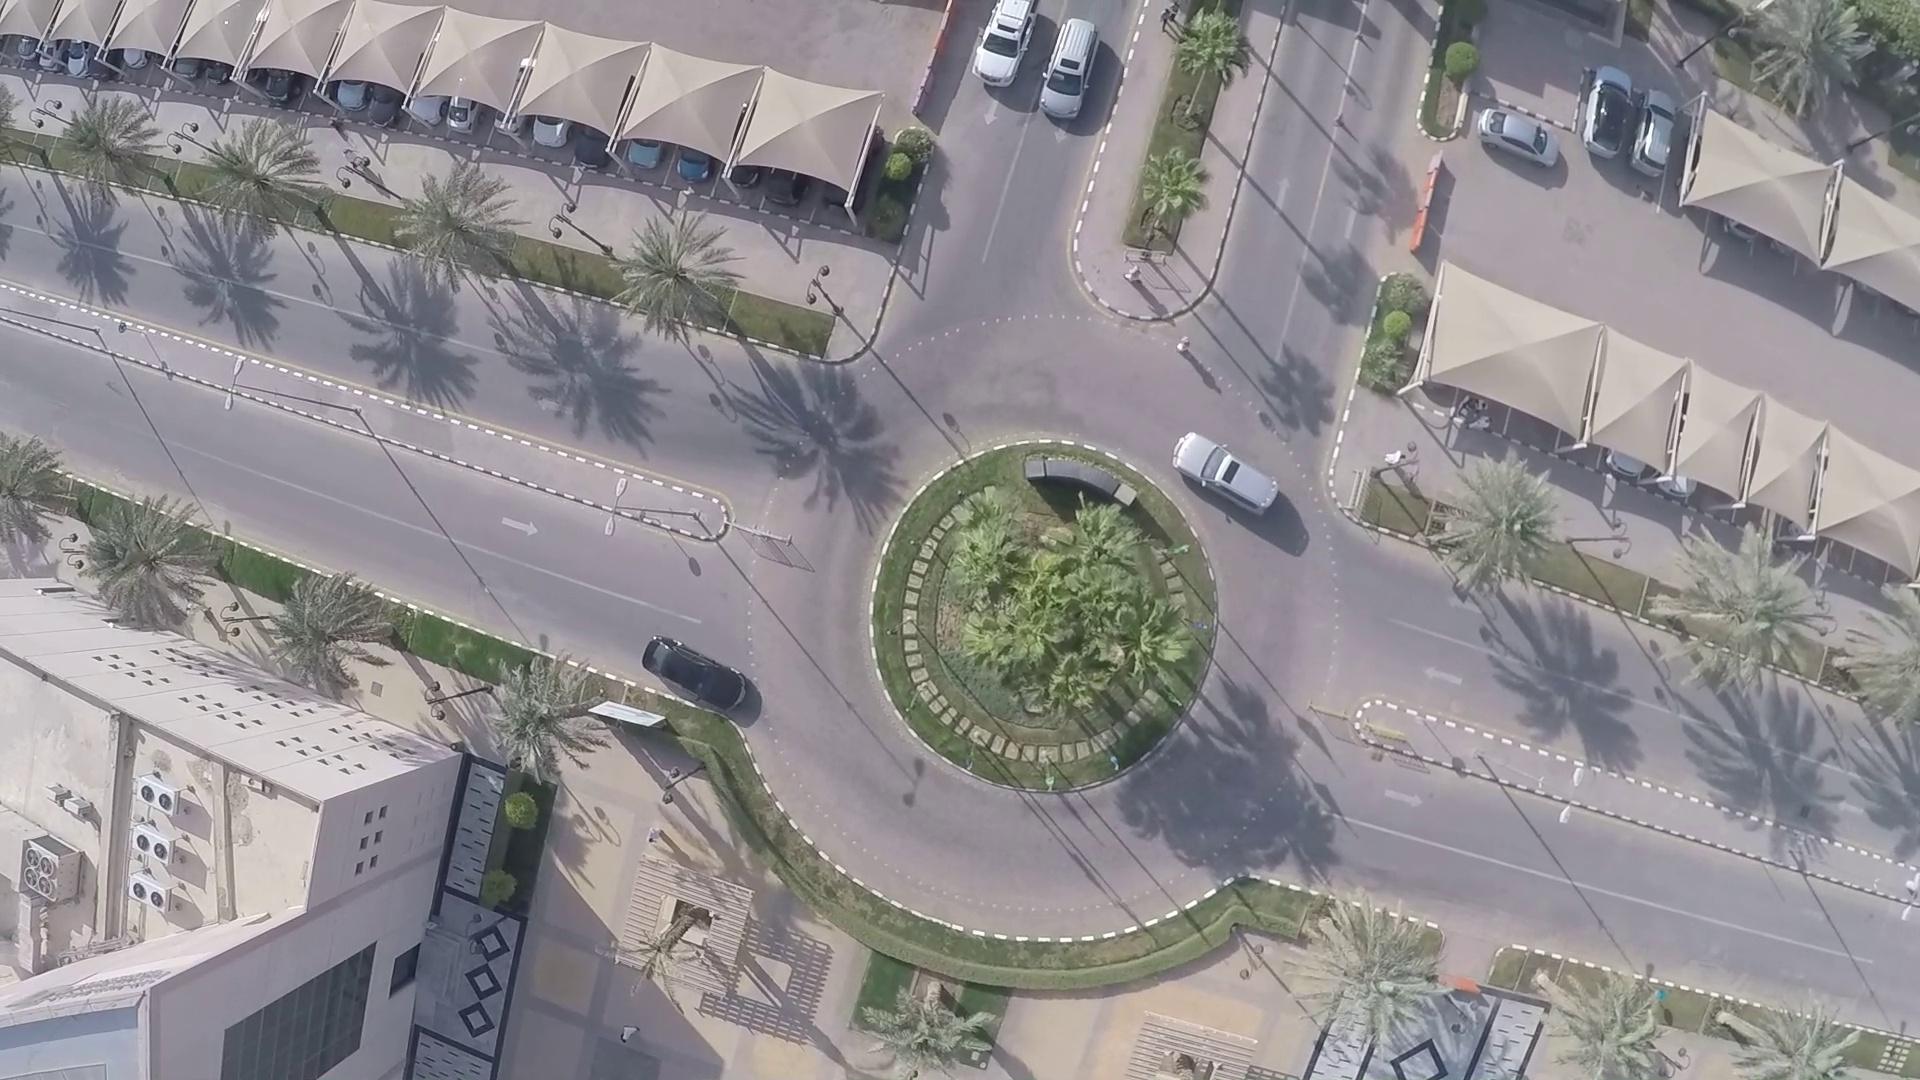car: (1164, 425, 1290, 518), (636, 640, 764, 702), (1035, 20, 1116, 117)
